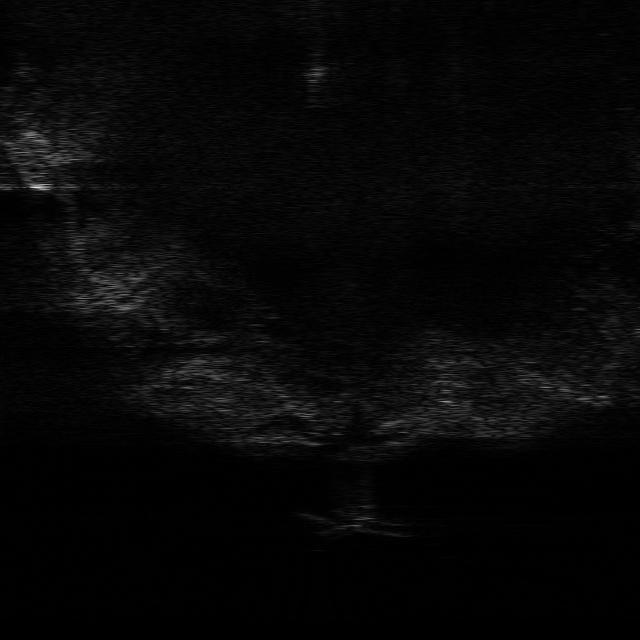plane: (296, 500, 415, 539)
